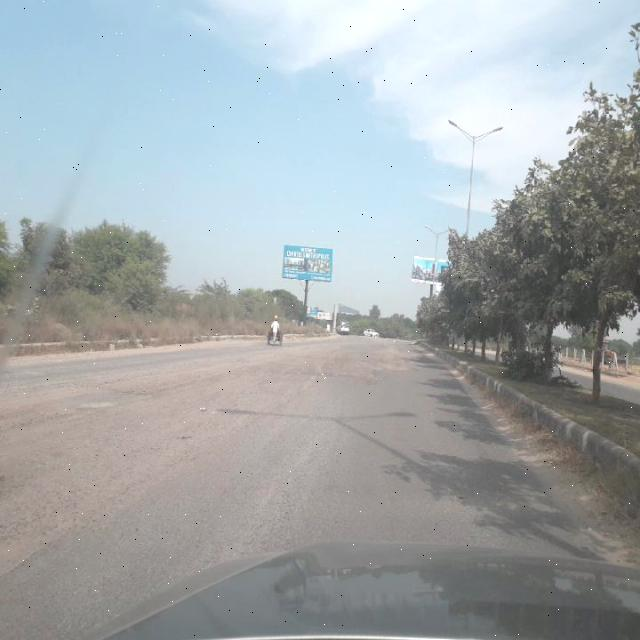D40: (0, 487, 96, 581)
